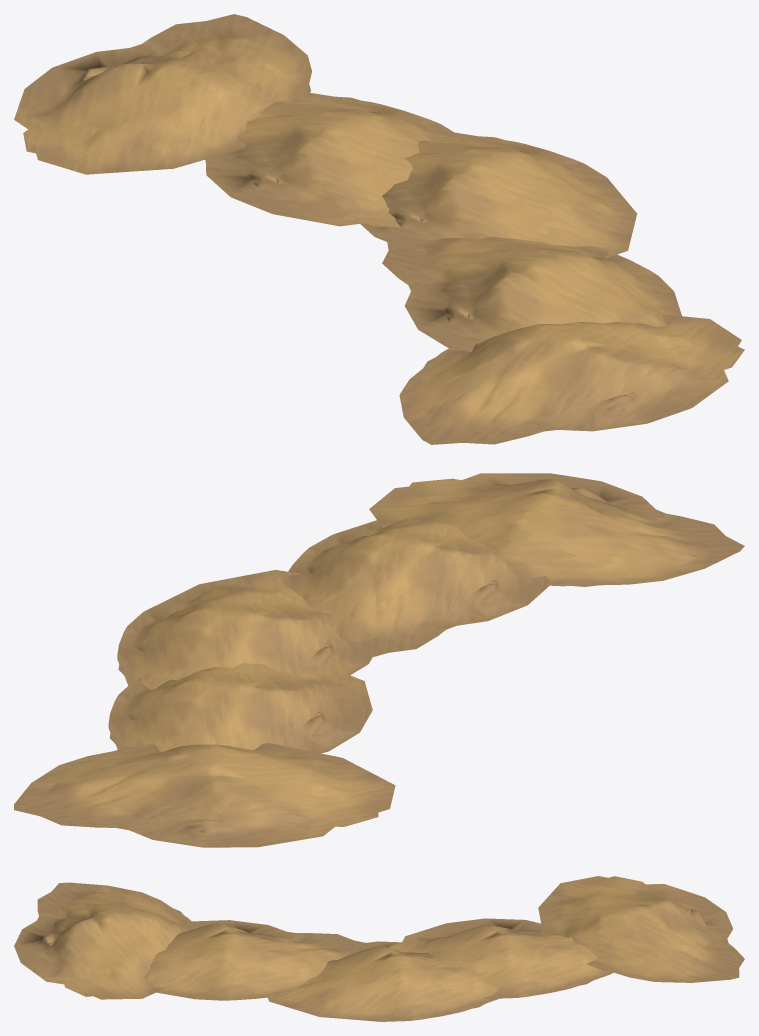
File: Area_15_8.fbx
3 renders of one model, top to bottom at view 1: azimuth 30°, elevation 25°; view 2: azimuth 150°, elevation 25°; view 3: azimuth 270°, elevation 25°, orthographic. The views are drawn at different scales.
Visible parts, largest first — view 1: Area_15_8; view 2: Area_15_8; view 3: Area_15_8.
Part boxes in pixels (left/top/right/bottom): Area_15_8: left=14, top=14, right=744, bottom=444; Area_15_8: left=14, top=473, right=744, bottom=847; Area_15_8: left=14, top=876, right=744, bottom=1021.
Size of the model in its own units: 8377 by 719 by 18228.
1 material, 1 textured.
